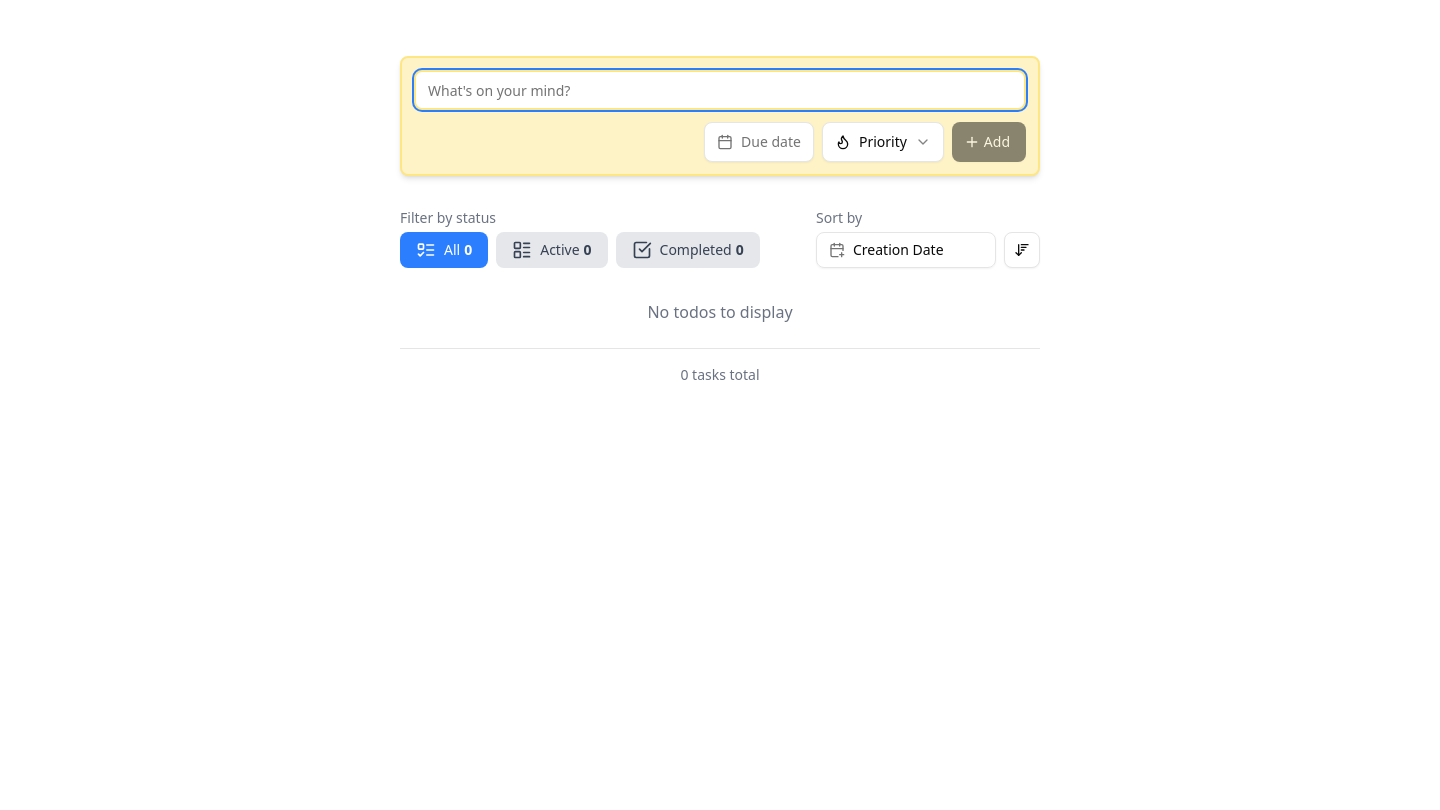
Test: TodoContainer Component - Integration Tests › Todo Interaction › should delete a todo when the delete button is clicked
The image size is (1440, 810).
Type "Todo to Delete" into the field with placeholder "What's on your mind?".
click(720, 90); type("Todo to Delete")  # box [414, 70, 1026, 110]
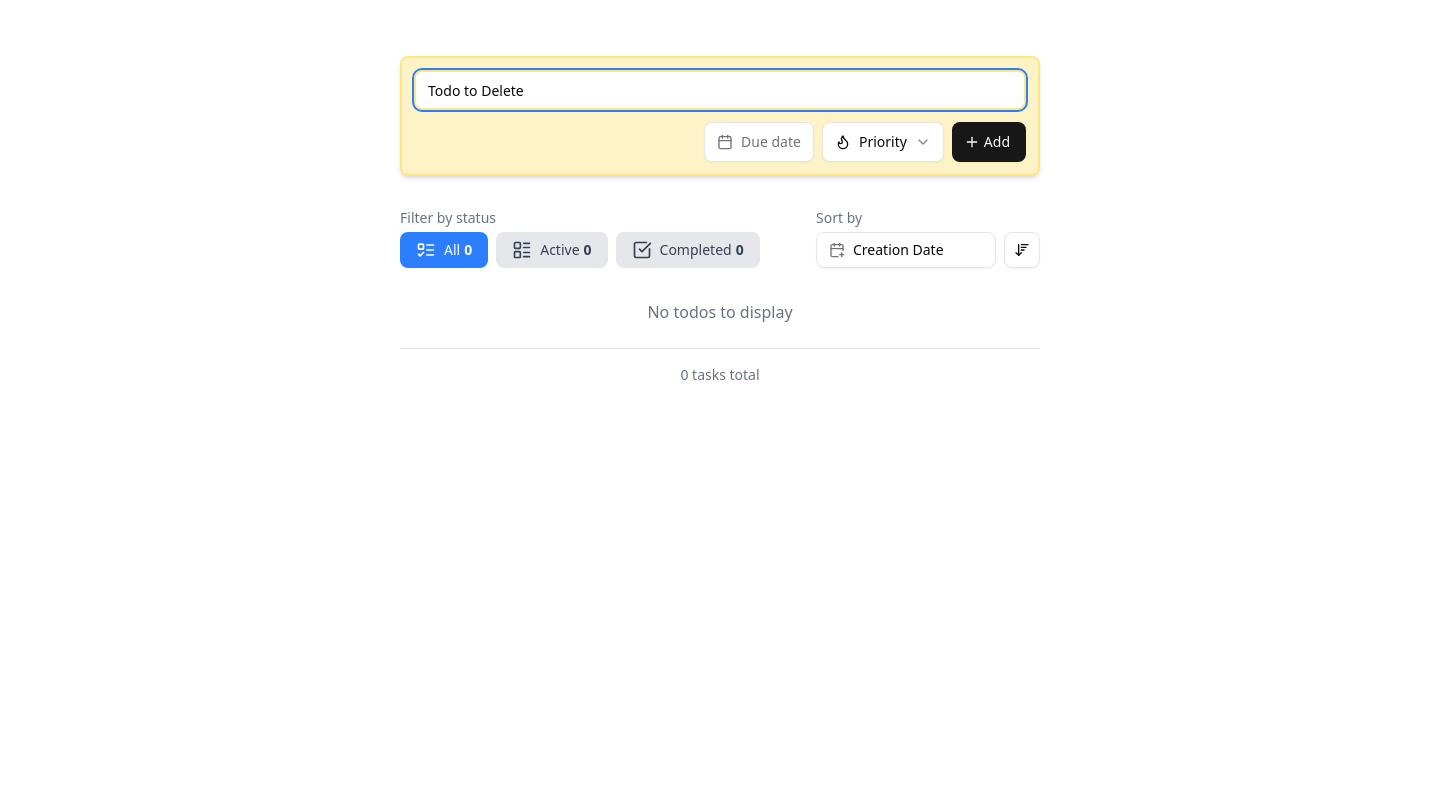
Click the button "Add".
click(989, 142)  # box [952, 122, 1026, 162]
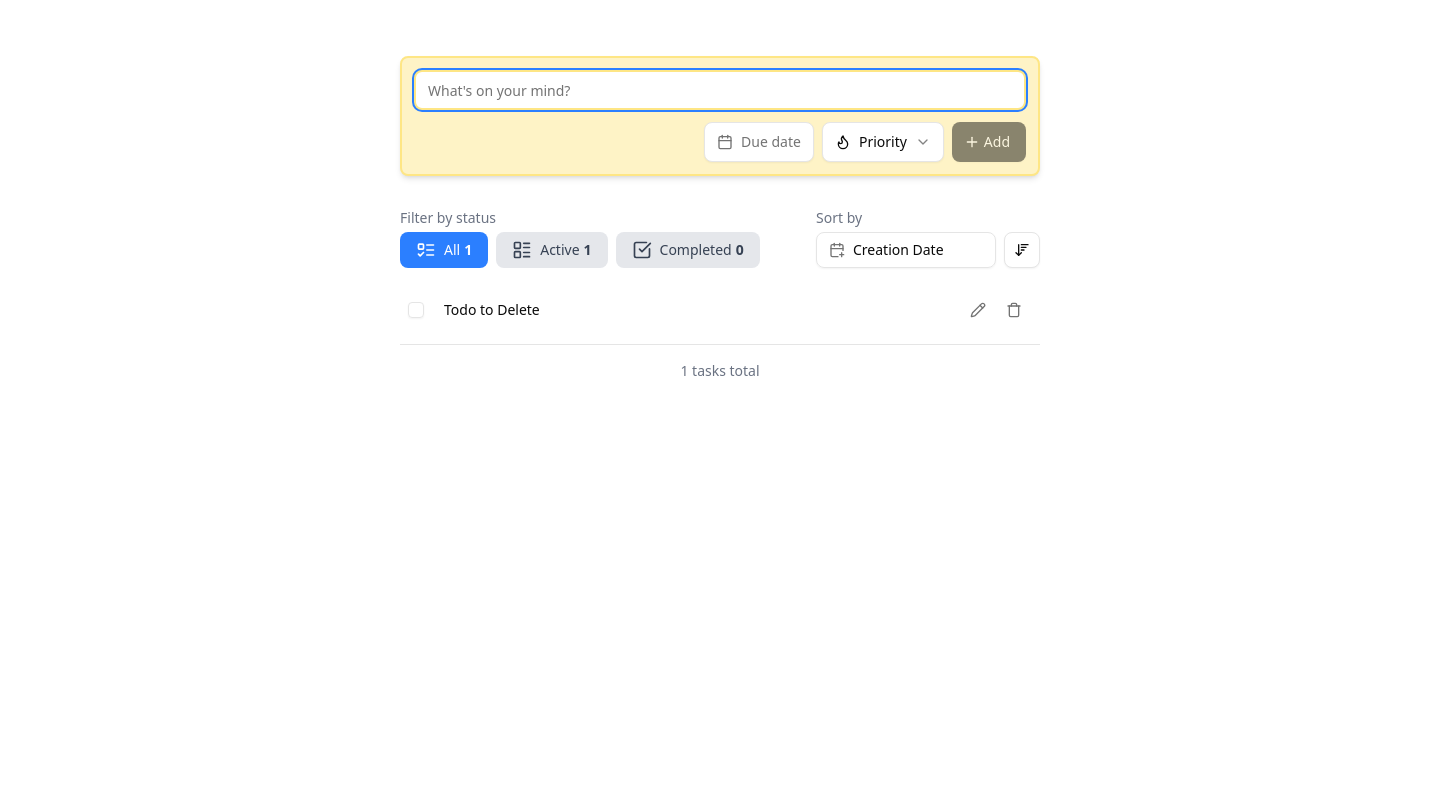
Expected: the text "Todo to Delete" is shown, [444, 300, 540, 320]
Expected: the text "1 tasks total" is shown, [680, 361, 760, 380]
Note: The delete button is clicked
Click the button with test id "delete-todo-trigger".
click(1014, 310)  # box [996, 292, 1032, 328]
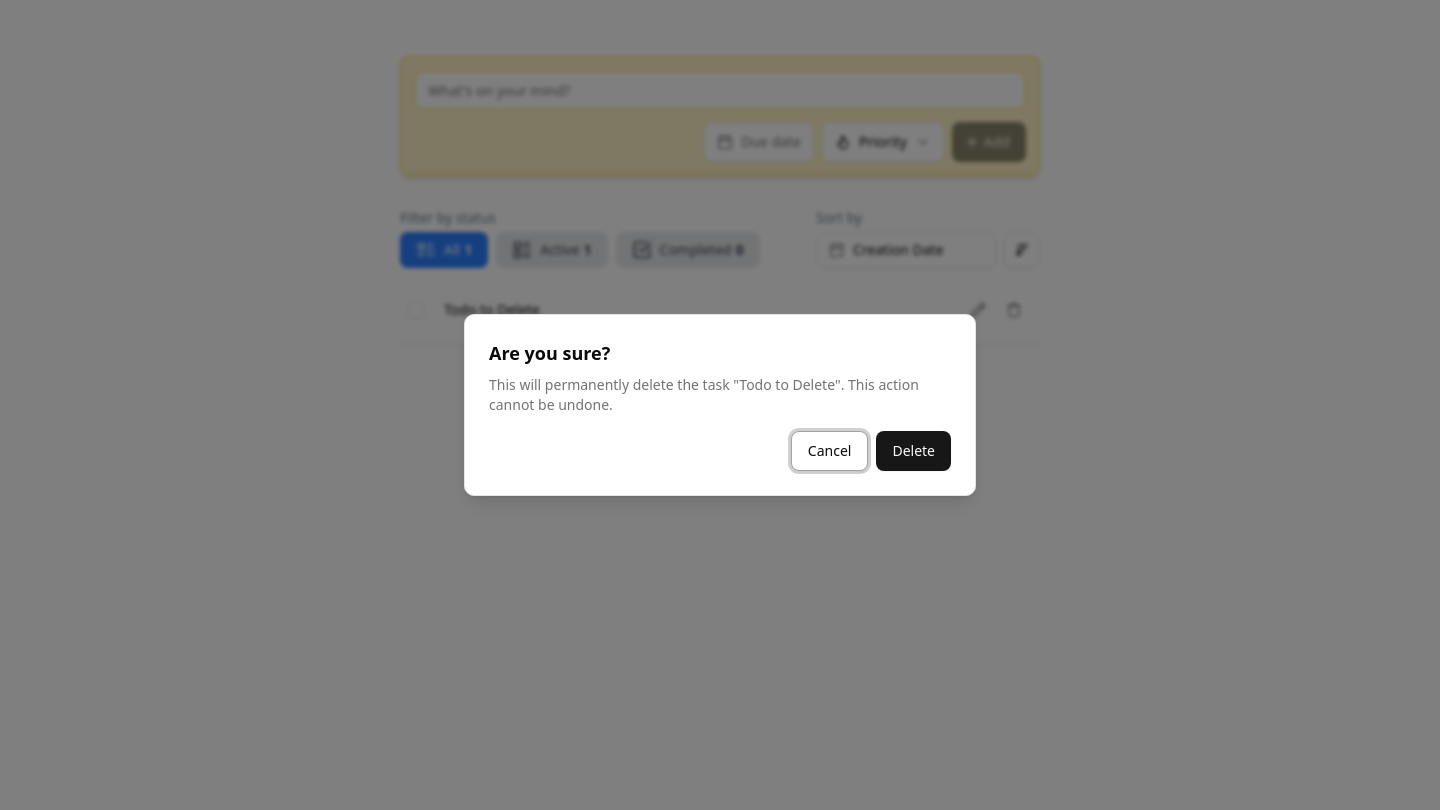
Expected: the button with test id "confirm-delete-todo" is shown
Note: The confirm button is clicked
Click the button with test id "confirm-delete-todo".
click(914, 451)  # box [876, 431, 951, 471]
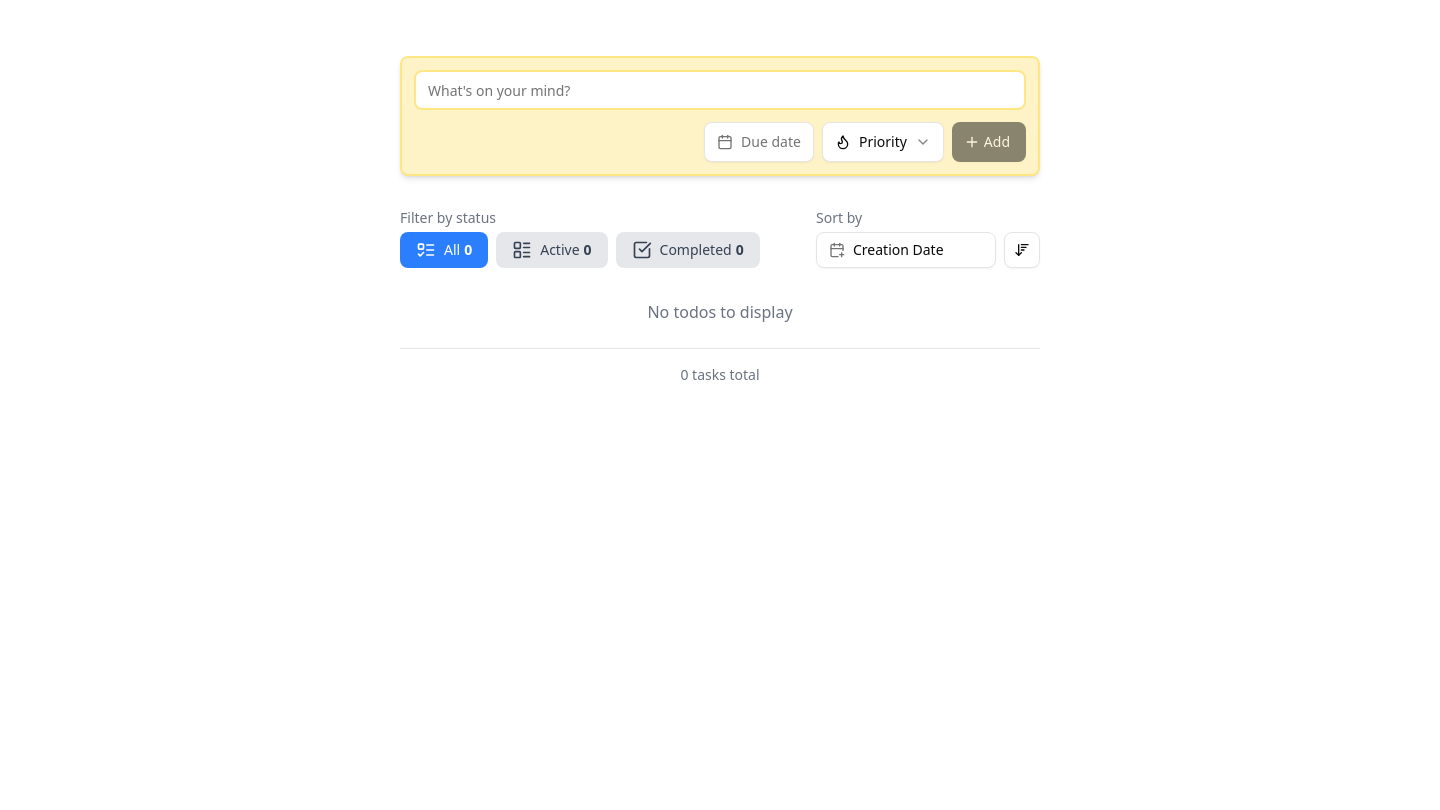
Expected: the button "Todo to Delete" is gone
Expected: the text "0 tasks total" is shown, [680, 365, 760, 384]
Expected: the text "No todos to display" is shown, [647, 301, 793, 323]
